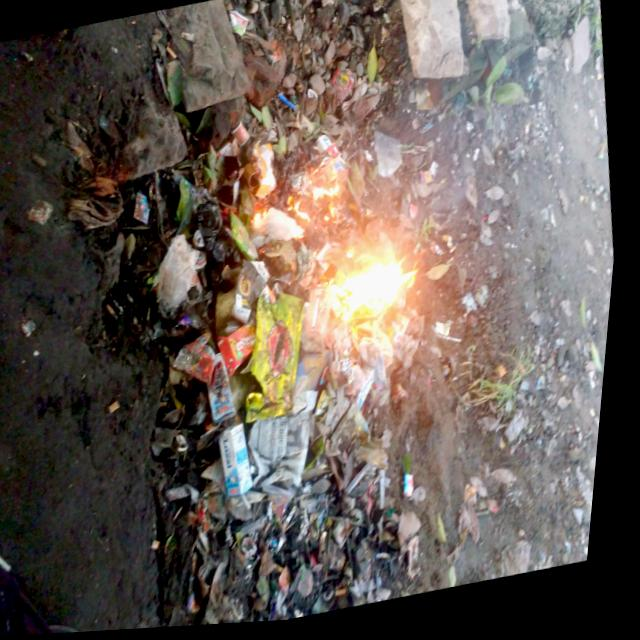helmet: (319, 242, 440, 365)
